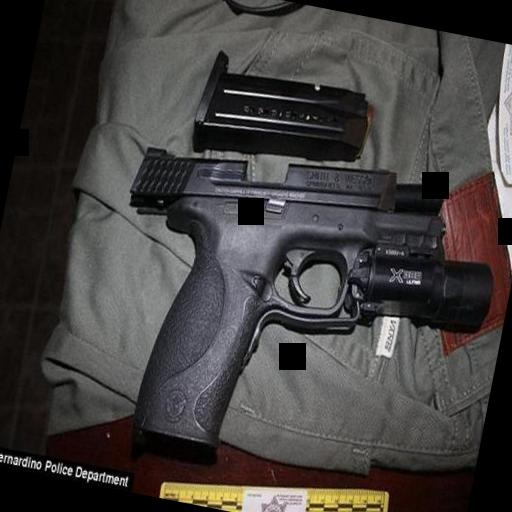Handgun: (88, 126, 510, 498)
